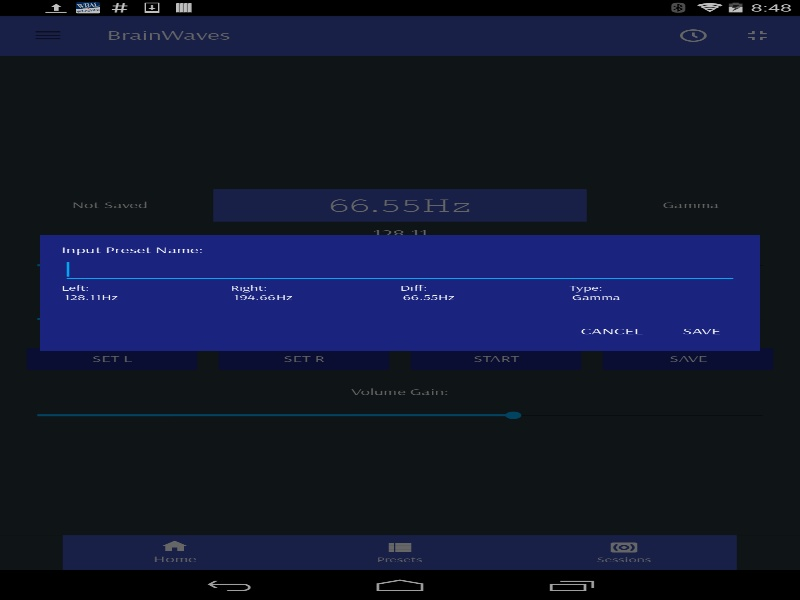Button: (564, 314, 658, 348), (658, 314, 744, 348)
Input: (61, 255, 738, 283)
